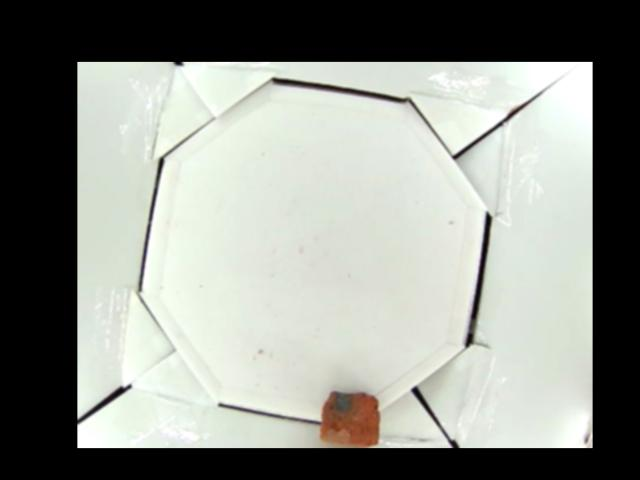Brisk: (320, 391, 379, 444)
